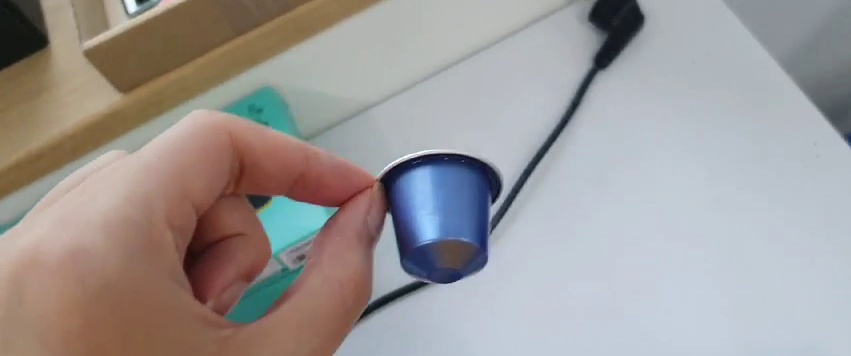capsule_7: (368, 147, 505, 287)
